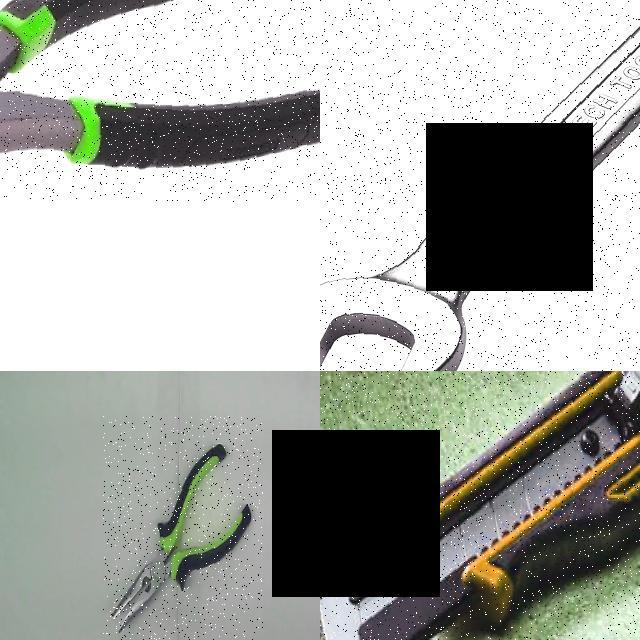estilete: (335, 371, 639, 639)
